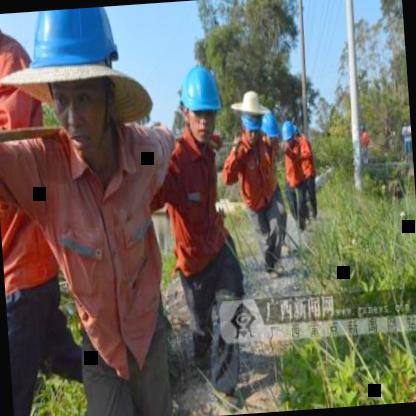helmet: (10, 5, 140, 166), (174, 58, 228, 144), (238, 87, 263, 128), (262, 109, 282, 153), (280, 115, 297, 148)
